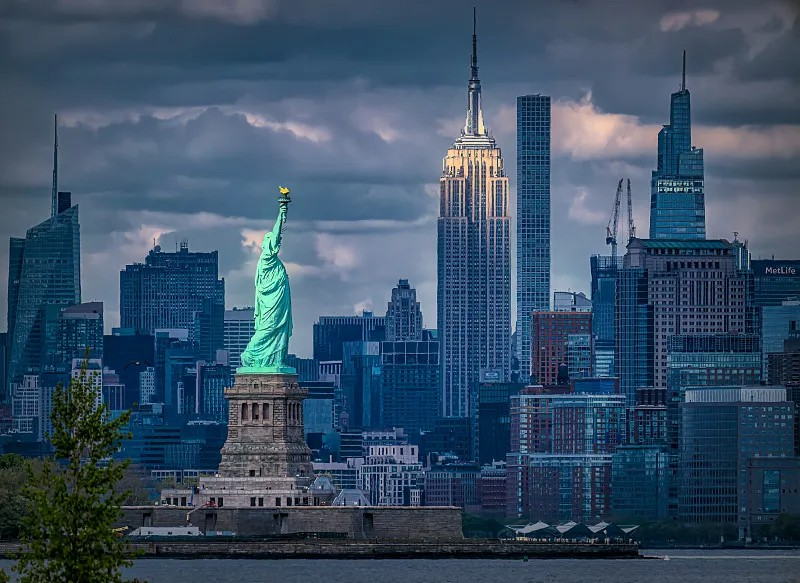SL: (217, 186, 313, 478)
